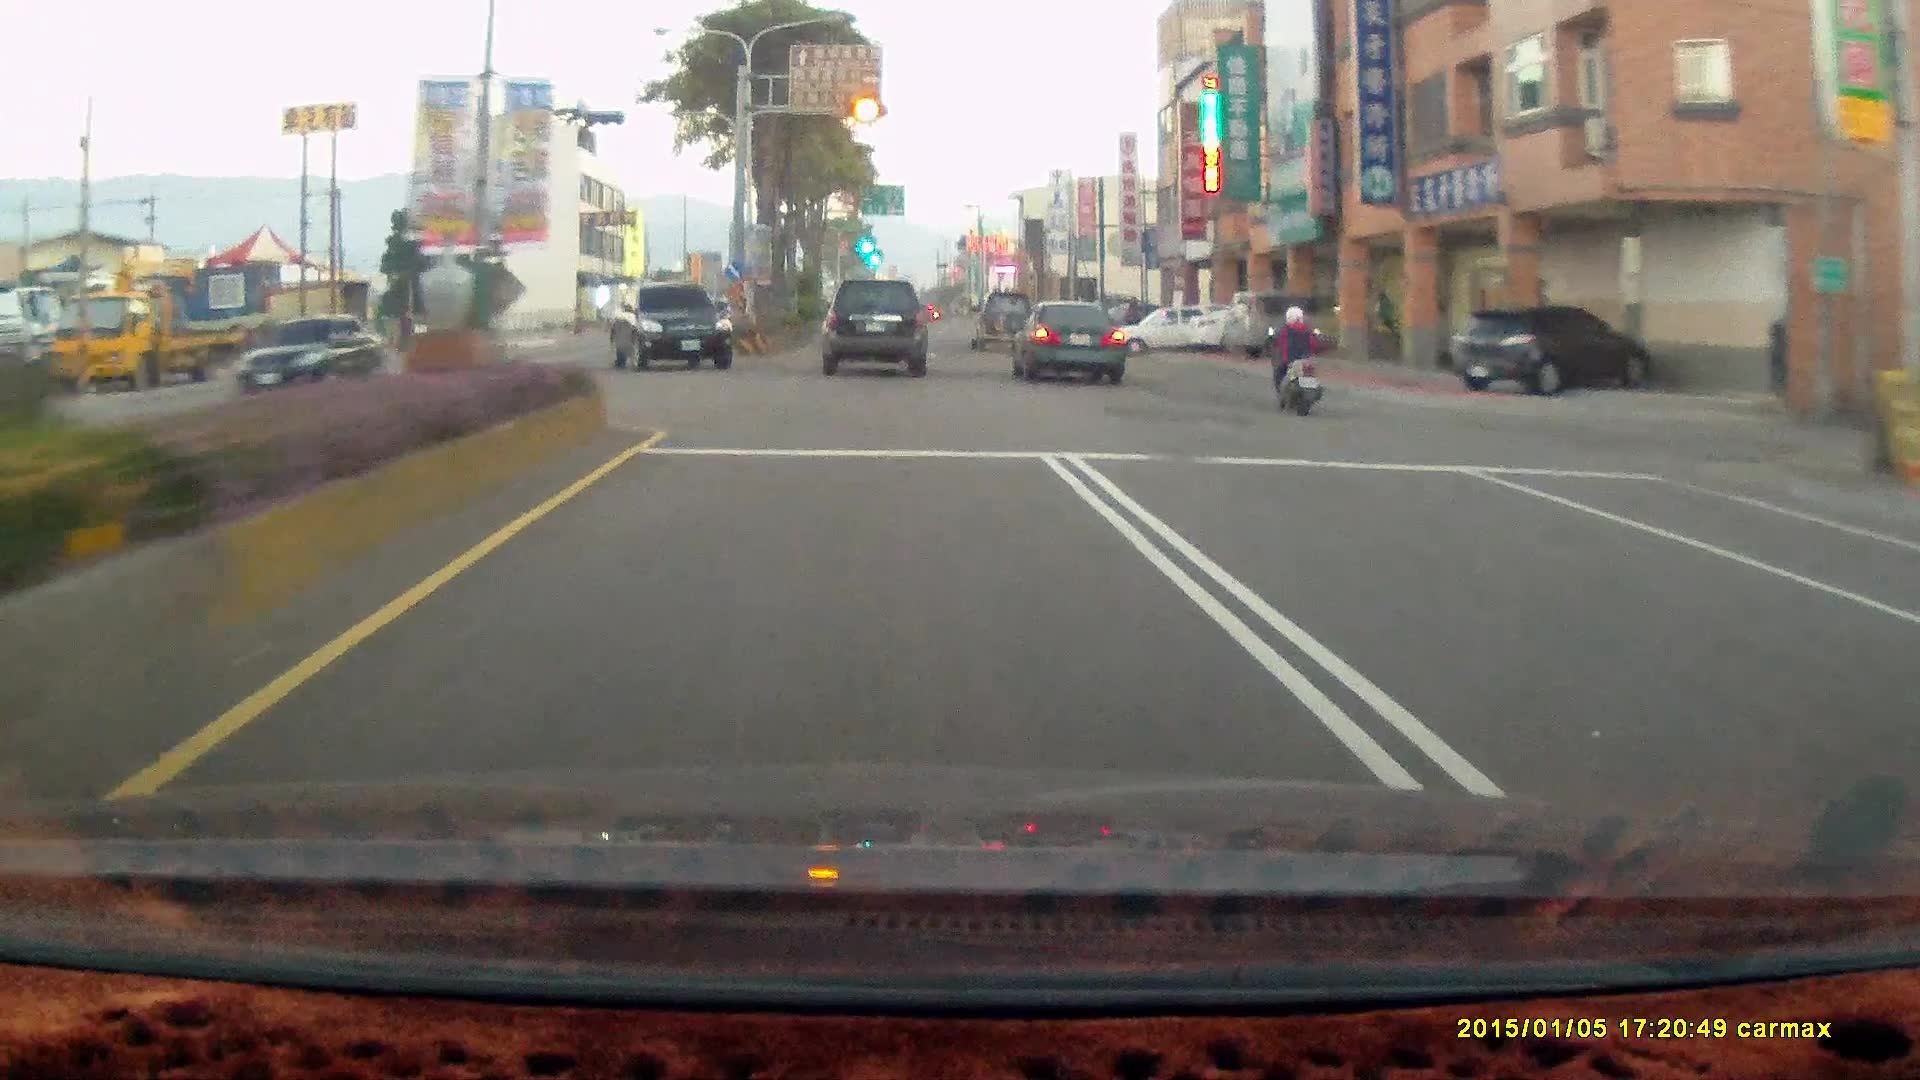pedestrian: (1373, 294, 1398, 361), (394, 304, 414, 357)
rider: (1254, 295, 1338, 425), (1269, 299, 1329, 412)
vehicle: (49, 283, 255, 396), (1449, 302, 1652, 395), (1454, 305, 1663, 395), (222, 313, 395, 401), (230, 311, 388, 398), (615, 281, 739, 369), (606, 282, 730, 369), (823, 280, 931, 379), (820, 278, 928, 376), (1008, 300, 1125, 385), (1009, 302, 1128, 384), (1224, 288, 1360, 359), (1220, 287, 1347, 361), (1122, 301, 1238, 359), (1113, 303, 1235, 356), (967, 289, 1036, 351)
